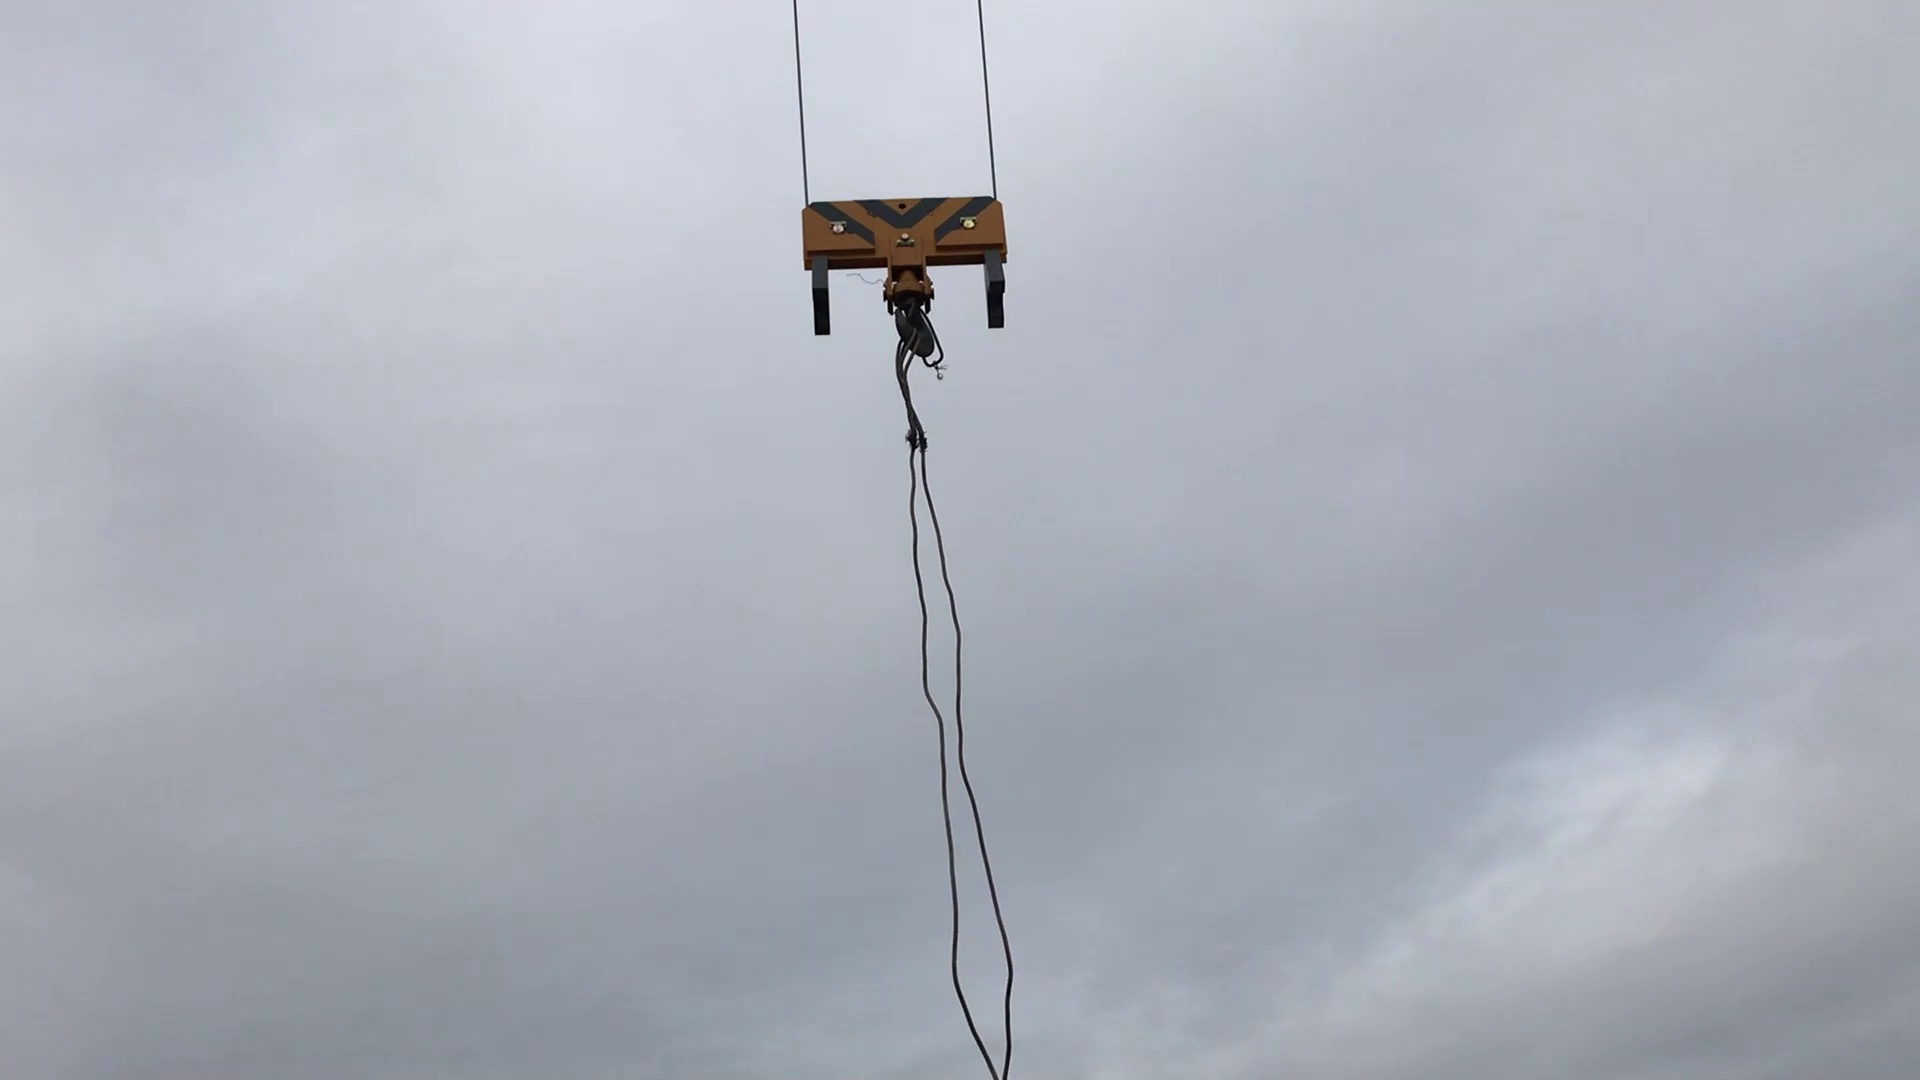hook: (789, 183, 1036, 363)
